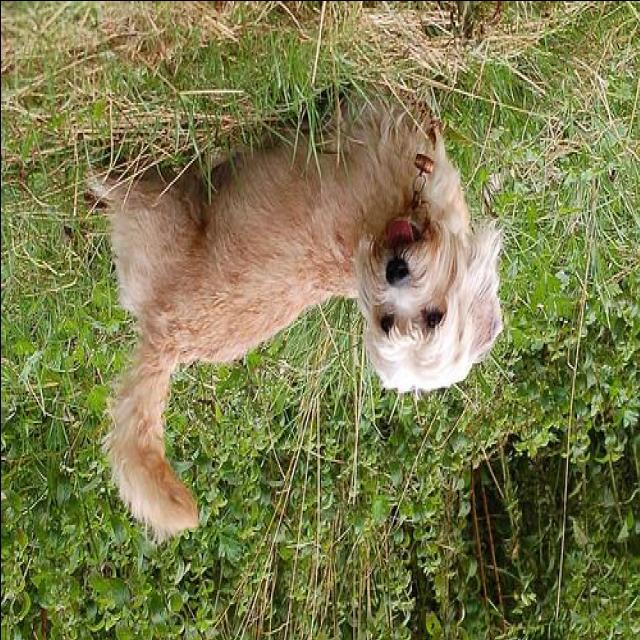dandie_dinmont: (80, 82, 502, 534)
